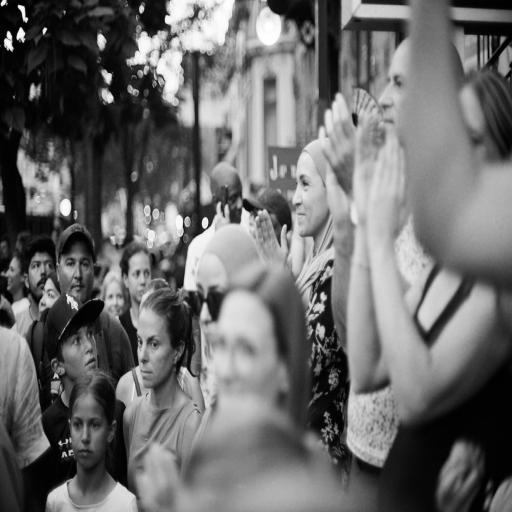face: (69, 394, 106, 472), (134, 309, 170, 389), (292, 149, 322, 236), (61, 244, 92, 303), (69, 327, 99, 382), (30, 251, 55, 297), (130, 256, 152, 302)
